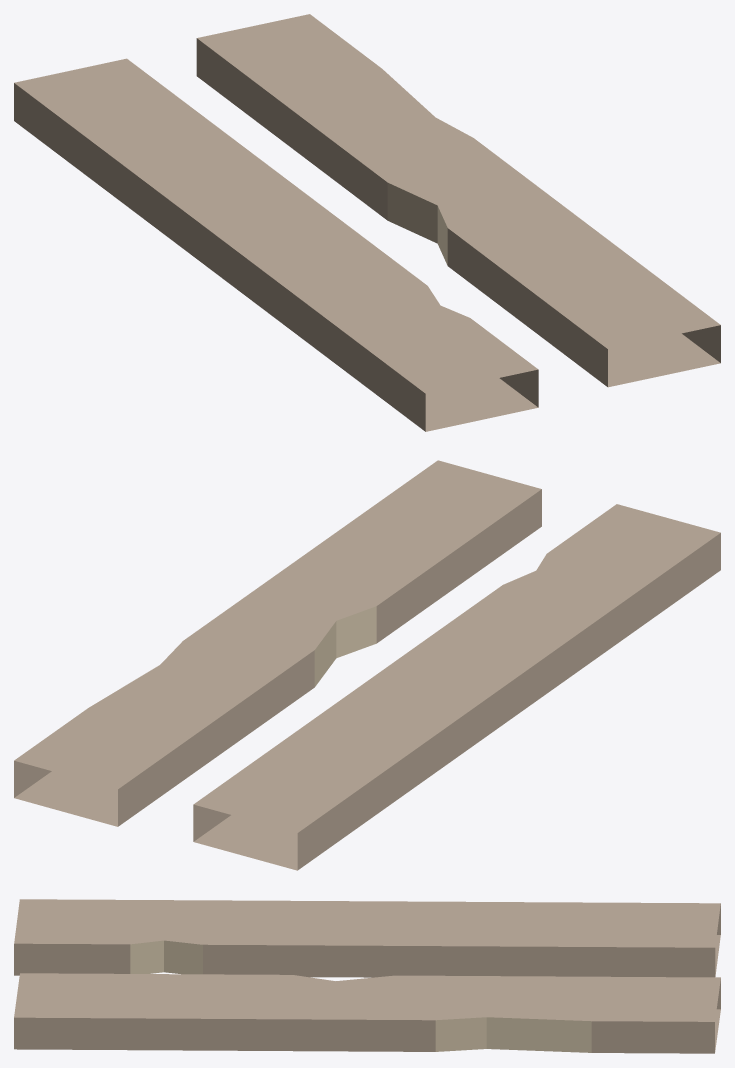
The model's file is Cave_Prop_Support_Ceiling_Boards_2.glb.
3 views of the same model, one above another, from view 1: azimuth 30°, elevation 25°; view 2: azimuth 150°, elevation 25°; view 3: azimuth 270°, elevation 25° (orthographic). The views are drawn at different scales.
Parts seen in each view (by area): view 1: Cave_Prop_Support_Ceiling_Boards_2; view 2: Cave_Prop_Support_Ceiling_Boards_2; view 3: Cave_Prop_Support_Ceiling_Boards_2.
Boxes of the visible parts, x1,y1,x2,y2 form: Cave_Prop_Support_Ceiling_Boards_2: (14,14,720,431); Cave_Prop_Support_Ceiling_Boards_2: (14,460,720,870); Cave_Prop_Support_Ceiling_Boards_2: (14,899,720,1053).
Size of the model in its own units: 0.4387 by 0.053 by 1.07.
